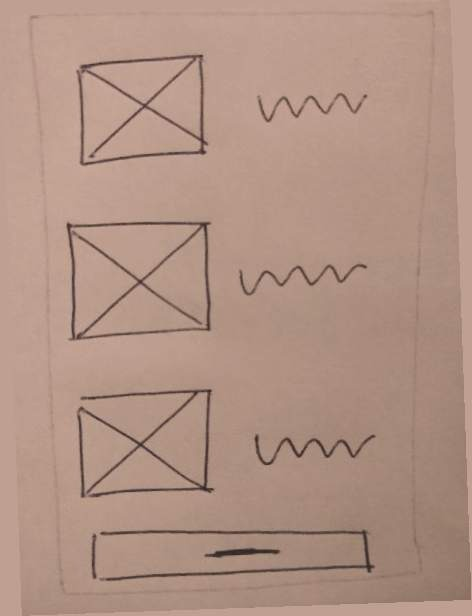button: (72, 515, 383, 584)
image: (61, 209, 217, 344), (65, 380, 221, 515), (69, 51, 215, 174)
text: (230, 249, 376, 308), (241, 416, 387, 475), (250, 75, 372, 143)
